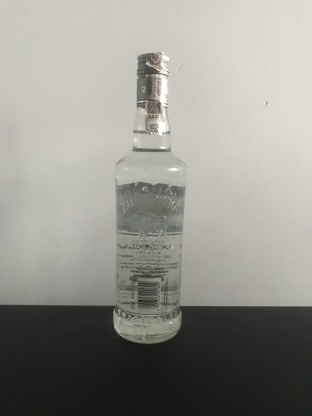nakretka: (134, 50, 171, 108)
